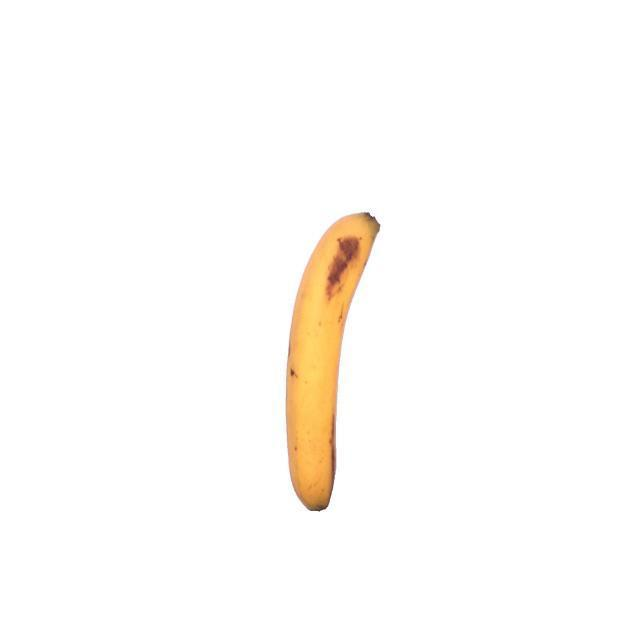Banana: (276, 207, 384, 517)
